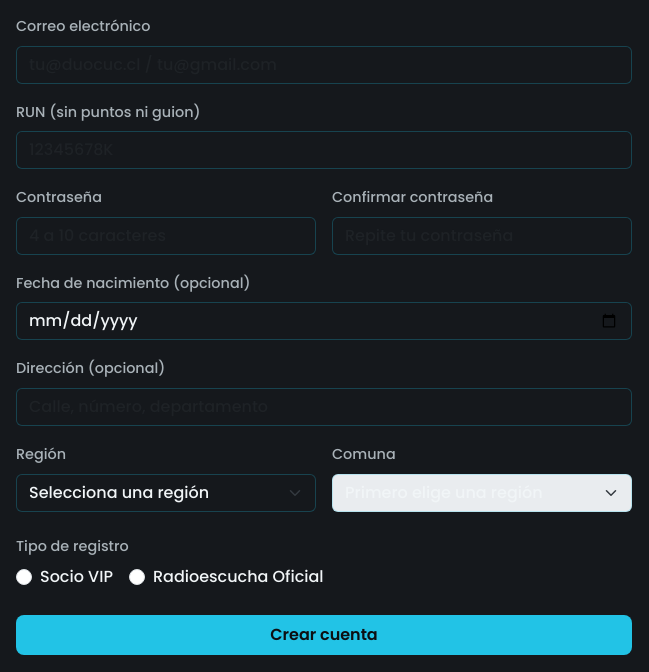
Test: Registro › rechaza el envío vacío sin guardar una cuenta
(page scrolled)
Click the button "Crear cuenta": (324, 635) [16, 615, 632, 655]
(page scrolled)
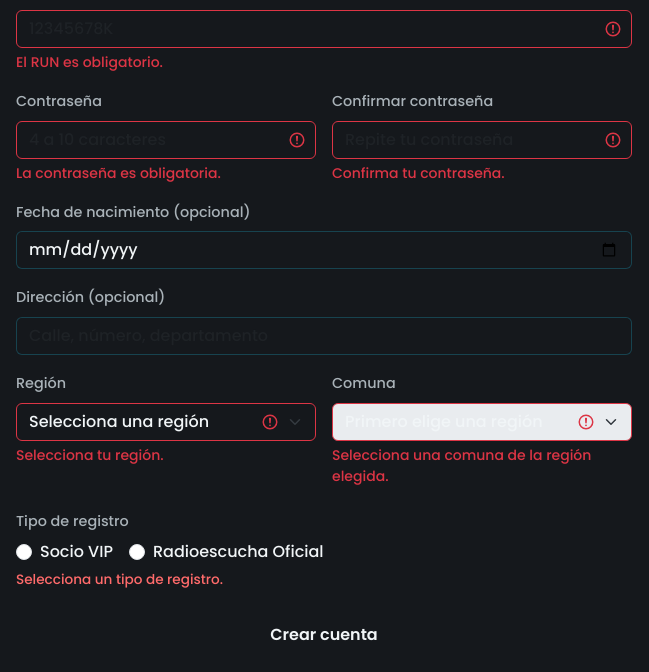
Expected: the text "Selecciona un tipo de registro." is shown, [16, 570, 223, 589]
